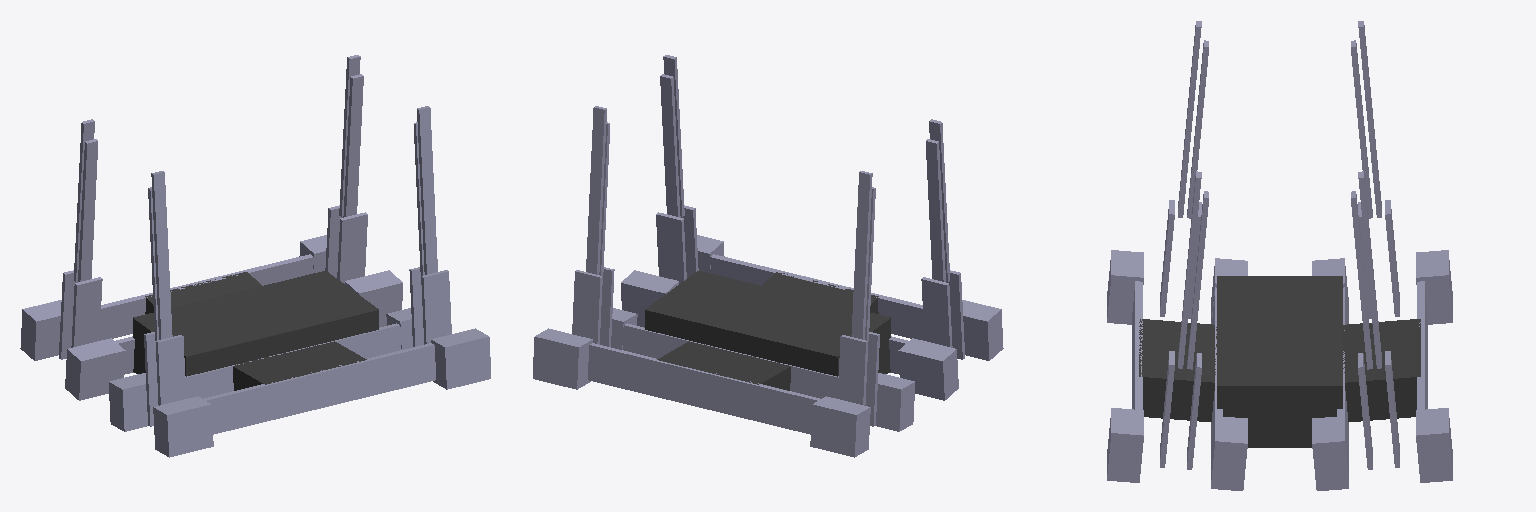
--- Facts derived from the render (not from the file) ---
3 views of the same robot in one strip: view 1: azimuth 30°, elevation 25°; view 2: azimuth 150°, elevation 25°; view 3: azimuth 270°, elevation 25° (orthographic).
Model quadruped with 27 links and 26 joints (16 continuous, 10 fixed), rooted at base_chassis_link, posed all joints at 0.
Visible links, largest first — view 1: chassis_right, base_chassis_link, chassis_left, lower_leg_front_rightR_link, lower_leg_back_rightR_link, lower_leg_front_leftR_link, lower_leg_back_leftR_link, upper_leg_front_rightR_link, upper_leg_back_rightR_link, upper_leg_back_leftR_link, upper_leg_front_leftR_link, upper_leg_back_leftL_link (+7 smaller); view 2: chassis_left, base_chassis_link, chassis_right, lower_leg_front_leftL_link, lower_leg_back_leftL_link, lower_leg_front_rightL_link, lower_leg_back_rightL_link, upper_leg_front_leftL_link, upper_leg_back_leftL_link, upper_leg_back_rightL_link, upper_leg_front_rightL_link, upper_leg_back_rightR_link (+7 smaller); view 3: base_chassis_link, chassis_right, chassis_left, lower_leg_front_rightR_link, lower_leg_front_leftL_link, lower_leg_back_rightR_link, lower_leg_back_leftL_link, lower_leg_front_rightL_link, lower_leg_front_leftR_link, lower_leg_back_rightL_link, lower_leg_back_leftR_link, upper_leg_front_rightL_link (+5 smaller).
Link boxes in pixels (bbox=[...]): chassis_right: bbox=[109, 308, 490, 457]; base_chassis_link: bbox=[133, 271, 378, 376]; chassis_left: bbox=[20, 235, 402, 400]; lower_leg_front_rightR_link: bbox=[417, 106, 437, 274]; lower_leg_back_rightR_link: bbox=[151, 171, 172, 339]; lower_leg_front_leftR_link: bbox=[343, 74, 363, 217]; lower_leg_back_leftR_link: bbox=[78, 139, 97, 281]; upper_leg_front_rightR_link: bbox=[421, 270, 451, 344]; upper_leg_back_rightR_link: bbox=[156, 335, 185, 405]; upper_leg_back_leftR_link: bbox=[71, 277, 102, 347]; upper_leg_front_leftR_link: bbox=[337, 212, 367, 283]; upper_leg_back_leftL_link: bbox=[59, 270, 77, 359]; chassis_left: bbox=[533, 308, 914, 457]; base_chassis_link: bbox=[645, 271, 890, 376]; chassis_right: bbox=[621, 235, 1003, 400]; lower_leg_front_leftL_link: bbox=[586, 106, 606, 274]; lower_leg_back_leftL_link: bbox=[851, 171, 872, 339]; lower_leg_front_rightL_link: bbox=[660, 74, 680, 217]; lower_leg_back_rightL_link: bbox=[926, 139, 945, 281]; upper_leg_front_leftL_link: bbox=[572, 270, 602, 344]; upper_leg_back_leftL_link: bbox=[838, 335, 867, 405]; upper_leg_back_rightL_link: bbox=[921, 277, 952, 347]; upper_leg_front_rightL_link: bbox=[656, 212, 686, 283]; upper_leg_back_rightR_link: bbox=[946, 270, 964, 359]; base_chassis_link: bbox=[1217, 276, 1342, 447]; chassis_right: bbox=[1107, 250, 1247, 490]; chassis_left: bbox=[1312, 250, 1452, 490]; lower_leg_front_rightR_link: bbox=[1178, 171, 1201, 368]; lower_leg_front_leftL_link: bbox=[1358, 171, 1381, 368]; lower_leg_back_rightR_link: bbox=[1178, 21, 1201, 217]; lower_leg_back_leftL_link: bbox=[1358, 21, 1381, 217]; lower_leg_front_rightL_link: bbox=[1187, 191, 1208, 369]; lower_leg_front_leftR_link: bbox=[1351, 191, 1372, 369]; lower_leg_back_rightL_link: bbox=[1187, 40, 1208, 218]; lower_leg_back_leftR_link: bbox=[1351, 40, 1372, 218]; upper_leg_front_rightL_link: bbox=[1187, 353, 1201, 469].
Bounding box of the posed robot: 0.492 × 0.3932 × 0.3771 m (x, y, z).
0 mesh visuals loaded from 1 distinct referenced files (none loaded); not drawn: 8 (reference not matched to a file when rendering).

The robot description file, URDF, robot "quadruped":
<?xml version="1.0" ?>
<!-- ======================================================================= -->
<!--LICENSE:                                                                 -->
<!--Copyright (c) 2017, Erwin Coumans                                        -->
<!--Google Inc.                                                              -->
<!--All rights reserved.                                                     -->
<!--                                                                         -->
<!--Redistribution and use in source and binary forms, with or without       -->
<!--modification, are permitted provided that the following conditions are   -->
<!--met:                                                                     -->
<!--                                                                         -->
<!--1. Redistributions or derived work must retain this copyright notice,    -->
<!--   this list of conditions and the following disclaimer.                 -->
<!--                                                                         -->
<!--2. Redistributions in binary form must reproduce the above copyright     -->
<!--   notice, this list of conditions and the following disclaimer in the   -->
<!--   documentation and/or other materials provided with the distribution.  -->
<!--                                                                         -->
<!--THIS SOFTWARE IS PROVIDED BY THE COPYRIGHT HOLDERS AND CONTRIBUTORS "AS  -->
<!--IS" AND ANY EXPRESS OR IMPLIED WARRANTIES, INCLUDING, BUT NOT LIMITED TO,-->
<!--THE IMPLIED WARRANTIES OF MERCHANTABILITY AND FITNESS FOR A PARTICULAR   -->
<!--PURPOSE ARE DISCLAIMED. IN NO EVENT SHALL THE COPYRIGHT HOLDER OR        -->
<!--CONTRIBUTORS BE LIABLE FOR ANY DIRECT, INDIRECT, INCIDENTAL, SPECIAL,    -->
<!--EXEMPLARY, OR CONSEQUENTIAL DAMAGES (INCLUDING, BUT NOT LIMITED TO,      -->
<!--PROCUREMENT OF SUBSTITUTE GOODS OR SERVICES; LOSS OF USE, DATA, OR       -->
<!--PROFITS; OR BUSINESS INTERRUPTION) HOWEVER CAUSED AND ON ANY THEORY OF   -->
<!--LIABILITY, WHETHER IN CONTRACT, STRICT LIABILITY, OR TORT (INCLUDING     -->
<!--NEGLIGENCE OR OTHERWISE) ARISING IN ANY WAY OUT OF THE USE OF THIS       -->
<!--SOFTWARE, EVEN IF ADVISED OF THE POSSIBILITY OF SUCH DAMAGE.             -->

<robot name="quadruped">
  <link name="base_chassis_link">
    <visual>
      <geometry>
        <box size=".295 0.142 .078"/>
      </geometry>
      <material name="black">
        <color rgba="0.3 0.3 0.3 1"/>
      </material>
    </visual>
    <collision>
      <geometry>
        <box size=".295 0.142 .078"/>
      </geometry>
    </collision>
    <inertial>
      <origin rpy="0.0 0 0" xyz="0.05 0 0"/>
      <mass value="1.81246"/>
      <inertia ixx="0.00474833" ixy="0.0" ixz="0.0" iyy="0.01386899" iyz="0.0" izz="0.01577876"/>
    </inertial>
  </link>

  <link name="chassis_right">
    <visual>
      <origin rpy="0 0 0" xyz="0 0 0"/>
      <geometry>
        <box size=".156 0.091 .050"/>
      </geometry>
      <material name="black">
        <color rgba="0.3 0.3 0.3 1"/>
      </material>
    </visual>
    <visual>
      <origin rpy="0 0 0" xyz="0 0.0455 0"/>
      <geometry>
        <box size=".356 0.009 .050"/>
      </geometry>
      <material name="grey">
        <color rgba="0.65 0.65 0.75 1"/>
      </material>
    </visual>
    <visual>
      <origin rpy="0 0 0" xyz="0 -0.0455 0"/>
      <geometry>
        <box size=".356 0.009 .050"/>
      </geometry>
      <material name="grey">
        <color rgba="0.65 0.65 0.75 1"/>
      </material>
    </visual>
    <visual>
      <origin rpy="0 0 0" xyz="0.212 -0.05915 0"/>
      <geometry>
        <box size=".068 0.0373 .060"/>
      </geometry>
      <material name="grey">
        <color rgba="0.65 0.65 0.75 1"/>
      </material>
    </visual>
    <visual>
      <origin rpy="0 0 0" xyz="0.212 0.05915 0"/>
      <geometry>
        <box size=".068 0.0373 .060"/>
      </geometry>
      <material name="grey">
        <color rgba="0.65 0.65 0.75 1"/>
      </material>
    </visual>
    <visual>
      <origin rpy="0 0 0" xyz="-0.212 -0.05915 0"/>
      <geometry>
        <box size=".068 0.0373 .060"/>
      </geometry>
      <material name="grey">
        <color rgba="0.65 0.65 0.75 1"/>
      </material>
    </visual>
    <visual>
      <origin rpy="0 0 0" xyz="-0.212 0.05915 0"/>
      <geometry>
        <box size=".068 0.0373 .060"/>
      </geometry>
      <material name="grey">
        <color rgba="0.65 0.65 0.75 1"/>
      </material>
    </visual>


    <collision>
      <origin rpy="0 0 0" xyz="0 0.1165 0"/>
      <geometry>
        <box size=".156 0.091 .050"/>
      </geometry>
    </collision>
    <collision>
      <origin rpy="0 0 0" xyz="0 0.0455 0"/>
      <geometry>
        <box size=".356 0.009 .050"/>
      </geometry>
    </collision>
    <collision>
      <origin rpy="0 0 0" xyz="0 -0.0455 0"/>
      <geometry>
        <box size=".356 0.009 .050"/>
      </geometry>
    </collision>
    <collision>
      <origin rpy="0 0 0" xyz="0.212 -0.05915 0"/>
      <geometry>
        <box size=".068 0.0373 .060"/>
      </geometry>
    </collision>
    <collision>
      <origin rpy="0 0 0" xyz="0.212 0.05915 0"/>
      <geometry>
        <box size=".068 0.0373 .060"/>
      </geometry>
    </collision>
    <collision>
      <origin rpy="0 0 0" xyz="-0.212 -0.05915 0"/>
      <geometry>
        <box size=".068 0.0373 .060"/>
      </geometry>
    </collision>
    <collision>
      <origin rpy="0 0 0" xyz="-0.212 0.05915 0"/>
      <geometry>
        <box size=".068 0.0373 .060"/>
      </geometry>
    </collision>

    <inertial>
      <mass value="1.3668"/>
      <inertia ixx="0.0038077" ixy="0.0" ixz="0.0" iyy="0.0328502" iyz="0.0" izz="0.03575585"/>
    </inertial>
  </link>

  <joint name="chassis_right_center" type="fixed">
    <axis xyz="0 0 1"/>
    <parent link="base_chassis_link"/>
    <child link="chassis_right"/>
    <origin rpy="-0.0872665 0 0" xyz="0.0 -0.1165 -0.011"/>
    <limit effort="100" velocity="100"/>
    <joint_properties damping="0.0" friction="0.0"/>
  </joint>

  <link name="chassis_left">
    <visual>
      <origin rpy="0 0 0" xyz="0 0 0"/>
      <geometry>
        <box size=".156 0.091 .050"/>
      </geometry>
      <material name="black">
        <color rgba="0.3 0.3 0.3 1"/>
      </material>
    </visual>
    <visual>
      <origin rpy="0 0 0" xyz="0 0.0455 0"/>
      <geometry>
        <box size=".356 0.009 .050"/>
      </geometry>
      <material name="grey">
        <color rgba="0.65 0.65 0.75 1"/>
      </material>
    </visual>
    <visual>
      <origin rpy="0 0 0" xyz="0 -0.0455 0"/>
      <geometry>
        <box size=".356 0.009 .050"/>
      </geometry>
      <material name="grey">
        <color rgba="0.65 0.65 0.75 1"/>
      </material>
    </visual>
    <visual>
      <origin rpy="0 0 0" xyz="0.212 -0.05915 0"/>
      <geometry>
        <box size=".068 0.0373 .060"/>
      </geometry>
      <material name="grey">
        <color rgba="0.65 0.65 0.75 1"/>
      </material>
    </visual>
    <visual>
      <origin rpy="0 0 0" xyz="0.212 0.05915 0"/>
      <geometry>
        <box size=".068 0.0373 .060"/>
      </geometry>
      <material name="grey">
        <color rgba="0.65 0.65 0.75 1"/>
      </material>
    </visual>
    <visual>
      <origin rpy="0 0 0" xyz="-0.212 -0.05915 0"/>
      <geometry>
        <box size=".068 0.0373 .060"/>
      </geometry>
      <material name="grey">
        <color rgba="0.65 0.65 0.75 1"/>
      </material>
    </visual>
    <visual>
      <origin rpy="0 0 0" xyz="-0.212 0.05915 0"/>
      <geometry>
        <box size=".068 0.0373 .060"/>
      </geometry>
      <material name="grey">
        <color rgba="0.65 0.65 0.75 1"/>
      </material>
    </visual>


    <collision>
      <origin rpy="0 0 0" xyz="0 0.1165 0"/>
      <geometry>
        <box size=".156 0.091 .050"/>
      </geometry>
    </collision>
    <collision>
      <origin rpy="0 0 0" xyz="0 0.0455 0"/>
      <geometry>
        <box size=".356 0.009 .050"/>
      </geometry>
    </collision>
    <collision>
      <origin rpy="0 0 0" xyz="0 -0.0455 0"/>
      <geometry>
        <box size=".356 0.009 .050"/>
      </geometry>
    </collision>
    <collision>
      <origin rpy="0 0 0" xyz="0.212 -0.05915 0"/>
      <geometry>
        <box size=".068 0.0373 .060"/>
      </geometry>
    </collision>
    <collision>
      <origin rpy="0 0 0" xyz="0.212 0.05915 0"/>
      <geometry>
        <box size=".068 0.0373 .060"/>
      </geometry>
    </collision>
    <collision>
      <origin rpy="0 0 0" xyz="-0.212 -0.05915 0"/>
      <geometry>
        <box size=".068 0.0373 .060"/>
      </geometry>
    </collision>
    <collision>
      <origin rpy="0 0 0" xyz="-0.212 0.05915 0"/>
      <geometry>
        <box size=".068 0.0373 .060"/>
      </geometry>
    </collision>

    <inertial>
      <mass value="1.3668"/>
      <inertia ixx="0.0038077" ixy="0.0" ixz="0.0" iyy="0.0328502" iyz="0.0" izz="0.03575585"/>
    </inertial>
  </link>

  <joint name="chassis_left_center" type="fixed">
    <axis xyz="0 0 1"/>
    <parent link="base_chassis_link"/>
    <child link="chassis_left"/>
    <origin rpy="0.0872665 0 0" xyz="0.0 0.1165 -0.011"/>
    <limit effort="100" velocity="100"/>
    <joint_properties damping="0.0" friction="0.0"/>
  </joint>

  <link name="motor_front_rightR_link">
    <visual>
      <geometry>
        <mesh filename="tmotor3.obj" scale="1 1 1"/>
      </geometry>
      <material name="white">
        <color rgba="1 1 1 1"/>
      </material>
    </visual>
    <collision>
      <geometry>
        <cylinder length="0.0165" radius="0.0425"/>
      </geometry>
    </collision>
    <inertial>
      <mass value="0.241"/>
      <inertia ixx="0.00011397" ixy="0.0" ixz="0.0" iyy="0.00011397" iyz="0.0" izz="0.00021765"/>
    </inertial>
  </link>
  <joint name="motor_front_rightR_joint" type="continuous">
    <axis xyz="0 0 1"/>
    <parent link="chassis_right"/>
    <child link="motor_front_rightR_link"/>
    <origin rpy="1.57075 0 0" xyz="0.20268 -0.03275 0"/>
    <limit effort="100" velocity="100"/>
    <joint_properties damping="0.0" friction="0.0"/>
  </joint>

  <link name="motor_front_rightL_link">
    <visual>
      <geometry>
        <mesh filename="tmotor3.obj" scale="1 1 1"/>
      </geometry>
      <material name="white">
        <color rgba="1 1 1 1"/>
      </material>
    </visual>
    <collision>
      <geometry>
        <cylinder length="0.0165" radius="0.0425"/>
      </geometry>
    </collision>
    <inertial>
      <mass value="0.241"/>
      <inertia ixx="0.00011397" ixy="0.0" ixz="0.0" iyy="0.00011397" iyz="0.0" izz="0.00021765"/>
    </inertial>
  </link>
  <joint name="motor_front_rightL_joint" type="continuous">
    <axis xyz="0 0 1"/>
    <parent link="chassis_right"/>
    <child link="motor_front_rightL_link"/>
    <origin rpy="1.57075 0 3.141592" xyz="0.20268 0.03275 0"/>
    <limit effort="100" velocity="100"/>
    <joint_properties damping="0.0" friction="0.0"/>
  </joint>

  <link name="motor_front_leftL_link">
    <visual>
      <geometry>
        <mesh filename="tmotor3.obj" scale="1 1 1"/>
      </geometry>
      <material name="white">
        <color rgba="1 1 1 1"/>
      </material>
    </visual>
    <collision>
      <geometry>
        <cylinder length="0.0165" radius="0.0425"/>
      </geometry>
    </collision>
    <inertial>
      <mass value="0.241"/>
      <inertia ixx="0.00011397" ixy="0.0" ixz="0.0" iyy="0.00011397" iyz="0.0" izz="0.00021765"/>
    </inertial>
  </link>
  <joint name="motor_front_leftL_joint" type="continuous">
    <axis xyz="0 0 1"/>
    <parent link="chassis_left"/>
    <child link="motor_front_leftL_link"/>
    <origin rpy="1.57075 0 3.141592" xyz="0.20268 0.03275 0"/>
    <limit effort="100" velocity="100"/>
    <joint_properties damping="0.0" friction="0.0"/>
  </joint>

  <link name="motor_front_leftR_link">
    <visual>
      <geometry>
        <mesh filename="tmotor3.obj" scale="1 1 1"/>
      </geometry>
      <material name="white">
        <color rgba="1 1 1 1"/>
      </material>
    </visual>
    <collision>
      <geometry>
        <cylinder length="0.0165" radius="0.0425"/>
      </geometry>
    </collision>
    <inertial>
      <mass value="0.241"/>
      <inertia ixx="0.00011397" ixy="0.0" ixz="0.0" iyy="0.00011397" iyz="0.0" izz="0.00021765"/>
    </inertial>
  </link>
  <joint name="motor_front_leftR_joint" type="continuous">
    <axis xyz="0 0 1"/>
    <parent link="chassis_left"/>
    <child link="motor_front_leftR_link"/>
    <origin rpy="1.57075 0 0" xyz="0.20268 -0.03275 0"/>
    <limit effort="100" velocity="100"/>
    <joint_properties damping="0.0" friction="0.0"/>
  </joint>

  <link name="motor_back_rightR_link">
    <visual>
      <geometry>
        <mesh filename="tmotor3.obj" scale="1 1 1"/>
      </geometry>
      <material name="white">
        <color rgba="1 1 1 1"/>
      </material>
    </visual>
    <collision>
      <geometry>
        <cylinder length="0.0165" radius="0.0425"/>
      </geometry>
    </collision>
    <inertial>
      <mass value="0.241"/>
      <inertia ixx="0.00011397" ixy="0.0" ixz="0.0" iyy="0.00011397" iyz="0.0" izz="0.00021765"/>
    </inertial>
  </link>
  <joint name="motor_back_rightR_joint" type="continuous">
    <axis xyz="0 0 1"/>
    <parent link="chassis_right"/>
    <child link="motor_back_rightR_link"/>
    <origin rpy="1.57075 0 0" xyz="-0.20268 -0.03275 0"/>
    <limit effort="100" velocity="100"/>
    <joint_properties damping="0.0" friction="0.0"/>
  </joint>

  <link name="motor_back_rightL_link">
    <visual>
      <geometry>
        <mesh filename="tmotor3.obj" scale="1 1 1"/>
      </geometry>
      <material name="white">
        <color rgba="1 1 1 1"/>
      </material>
    </visual>
    <collision>
      <geometry>
        <cylinder length="0.0165" radius="0.0425"/>
      </geometry>
    </collision>
    <inertial>
      <mass value="0.241"/>
      <inertia ixx="0.00011397" ixy="0.0" ixz="0.0" iyy="0.00011397" iyz="0.0" izz="0.00021765"/>
    </inertial>
  </link>
  <joint name="motor_back_rightL_joint" type="continuous">
    <axis xyz="0 0 1"/>
    <parent link="chassis_right"/>
    <child link="motor_back_rightL_link"/>
    <origin rpy="1.57075 0 3.141592" xyz="-0.20268 0.03275 0"/>
    <limit effort="100" velocity="100"/>
    <joint_properties damping="0.0" friction="0.0"/>
  </joint>

  <link name="motor_back_leftL_link">
    <visual>
      <geometry>
        <mesh filename="tmotor3.obj" scale="1 1 1"/>
      </geometry>
      <material name="white">
        <color rgba="1 1 1 1"/>
      </material>
    </visual>
    <collision>
      <geometry>
        <cylinder length="0.0165" radius="0.0425"/>
      </geometry>
    </collision>
    <inertial>
      <mass value="0.241"/>
      <inertia ixx="0.00011397" ixy="0.0" ixz="0.0" iyy="0.00011397" iyz="0.0" izz="0.00021765"/>
    </inertial>
  </link>
  <joint name="motor_back_leftL_joint" type="continuous">
    <axis xyz="0 0 1"/>
    <parent link="chassis_left"/>
    <child link="motor_back_leftL_link"/>
    <origin rpy="1.57075 0 3.141592" xyz="-0.20268 0.03275 0"/>
    <limit effort="100" velocity="100"/>
    <joint_properties damping="0.0" friction="0.0"/>
  </joint>

  <link name="motor_back_leftR_link">
    <visual>
      <geometry>
        <mesh filename="tmotor3.obj" scale="1 1 1"/>
      </geometry>
      <material name="white">
        <color rgba="1 1 1 1"/>
      </material>
    </visual>
    <collision>
      <geometry>
        <cylinder length="0.0165" radius="0.0425"/>
      </geometry>
    </collision>
    <inertial>
      <mass value="0.241"/>
      <inertia ixx="0.00011397" ixy="0.0" ixz="0.0" iyy="0.00011397" iyz="0.0" izz="0.00021765"/>
    </inertial>
  </link>
  <joint name="motor_back_leftR_joint" type="continuous">
    <axis xyz="0 0 1"/>
    <parent link="chassis_left"/>
    <child link="motor_back_leftR_link"/>
    <origin rpy="1.57075 0 0" xyz="-0.20268 -0.03275 0"/>
    <limit effort="100" velocity="100"/>
    <joint_properties damping="0.0" friction="0.0"/>
  </joint>


  <link name="upper_leg_front_rightR_link">
    <visual>
      <geometry>
        <box size=".039 0.0064 .129"/>
      </geometry>
      <material name="grey">
        <color rgba="0.65 0.65 0.75 1"/>
      </material>
    </visual>
    <collision>
      <geometry>
        <box size=".039 0.0064 .129"/>
      </geometry>
    </collision>
    <inertial>
      <mass value="0.026"/>
      <inertia ixx="0.000038770" ixy="0.0" ixz="0.0" iyy="0.000042198" iyz="0.0"
          izz="0.0000036030"/>
    </inertial>
  </link>
  <joint name="hip_front_rightR_joint" type="fixed">
    <axis xyz="0 0 1"/>
    <parent link="motor_front_rightR_link"/>
    <child link="upper_leg_front_rightR_link"/>
    <origin rpy="-1.57075 0 0" xyz="0.0 0.045 -0.01725"/>
    <limit effort="100" velocity="100"/>
    <joint_properties damping="0.0" friction="0.0"/>
  </joint>

  <link name="lower_leg_front_rightR_link">
    <contact>
      <friction_anchor/>
      <stiffness value="30000.0"/>
      <damping value="1000.0"/>
      <spinning_friction value=".3"/>
      <lateral_friction value="1"/>
    </contact>

    <visual>
      <origin rpy="0.0 0 0" xyz="0 0 0.120"/>
      <geometry>
        <box size="0.017 0.0064 0.240"/>
      </geometry>
      <material name="grey">
        <color rgba="0.65 0.65 0.75 1"/>
      </material>
    </visual>
    <collision>
      <origin rpy="0.0 0 0" xyz="0 0 0.120"/>
      <geometry>
        <box size="0.017 0.0064 0.240"/>
      </geometry>
    </collision>
    <inertial>
      <origin rpy="0.0 0 0" xyz="0 0 0.120"/>
      <mass value="0.066"/>
      <inertia ixx="0.00032459" ixy="0.0" ixz="0.0" iyy="0.00032637" iyz="0.0" izz="0.000002178"/>
    </inertial>
  </link>
  <joint name="knee_front_rightR_joint" type="continuous">
    <axis xyz="0 1 0"/>
    <parent link="upper_leg_front_rightR_link"/>
    <child link="lower_leg_front_rightR_link"/>
    <origin rpy="0 0 0" xyz="0.0 0.01 .056"/>
    <limit effort="100" velocity="100"/>
    <joint_properties damping="0.0" friction="0.0"/>
  </joint>

  <link name="upper_leg_front_rightL_link">
    <visual>
      <geometry>
        <box size=".039 0.0064 .129"/>
      </geometry>
      <material name="grey">
        <color rgba="0.65 0.65 0.75 1"/>
      </material>
    </visual>
    <collision>
      <geometry>
        <box size=".039 0.0064 .129"/>
      </geometry>
    </collision>
    <inertial>
      <mass value="0.026"/>
      <inertia ixx="0.000038770" ixy="0.0" ixz="0.0" iyy="0.000042198" iyz="0.0"
          izz="0.0000036030"/>
    </inertial>
  </link>
  <joint name="hip_front_rightL_joint" type="fixed">
    <axis xyz="0 0 1"/>
    <parent link="motor_front_rightL_link"/>
    <child link="upper_leg_front_rightL_link"/>
    <origin rpy="-1.57075 0 0" xyz="0.0 0.045 -0.01725"/>
    <limit effort="100" velocity="100"/>
    <joint_properties damping="0.0" friction="0.0"/>
  </joint>

  <link name="lower_leg_front_rightL_link">
    <contact>
      <friction_anchor/>
      <stiffness value="30000.0"/>
      <damping value="1000.0"/>
      <spinning_friction value=".3"/>
      <lateral_friction value="1"/>
    </contact>

    <visual>
      <origin rpy="0.0 0 0" xyz="0 0 .108"/>
      <geometry>
        <box size="0.017 0.0064 0.216"/>
      </geometry>
      <material name="grey">
        <color rgba="0.65 0.65 0.75 1"/>
      </material>
    </visual>
    <collision>
      <origin rpy="0.0 0 0" xyz="0 0 .108"/>
      <geometry>
        <box size="0.017 0.0064 0.216"/>
      </geometry>
    </collision>
    <inertial>
      <origin rpy="0.0 0 0" xyz="0 0 .1"/>
      <mass value="0.055"/>
      <inertia ixx="0.00023166" ixy="0.0" ixz="0.0" iyy="0.00023325" iyz="0.0" izz="0.00000198"/>
    </inertial>
  </link>
  <joint name="knee_front_rightL_joint" type="continuous">
    <axis xyz="0 1 0"/>
    <parent link="upper_leg_front_rightL_link"/>
    <child link="lower_leg_front_rightL_link"/>
    <origin rpy="0 0 0" xyz="0.0 0.01 .056"/>
    <limit effort="100" velocity="100"/>
    <joint_properties damping="0.0" friction="0.0"/>
  </joint>


  <link name="upper_leg_front_leftR_link">
    <visual>
      <geometry>
        <box size=".039 0.0064 .129"/>
      </geometry>
      <material name="grey">
        <color rgba="0.65 0.65 0.75 1"/>
      </material>
    </visual>
    <collision>
      <geometry>
        <box size=".039 0.0064 .129"/>
      </geometry>
    </collision>
    <inertial>
      <mass value="0.026"/>
      <inertia ixx="0.000038770" ixy="0.0" ixz="0.0" iyy="0.000042198" iyz="0.0"
          izz="0.0000036030"/>
    </inertial>
  </link>
  <joint name="hip_front_leftR_joint" type="fixed">
    <axis xyz="0 0 1"/>
    <parent link="motor_front_leftR_link"/>
    <child link="upper_leg_front_leftR_link"/>
    <origin rpy="-1.57075 0 0" xyz="0.0 0.045 -0.01725"/>
    <limit effort="100" velocity="100"/>
    <joint_properties damping="0.0" friction="0.0"/>
  </joint>

  <link name="lower_leg_front_leftR_link">
    <contact>
      <friction_anchor/>
      <stiffness value="30000.0"/>
      <damping value="1000.0"/>
      <spinning_friction value=".3"/>
      <lateral_friction value="1"/>
    </contact>

    <visual>
      <origin rpy="0.0 0 0" xyz="0 0 .108"/>
      <geometry>
        <box size="0.017 0.0064 0.216"/>
      </geometry>
      <material name="grey">
        <color rgba="0.65 0.65 0.75 1"/>
      </material>
    </visual>
    <collision>
      <origin rpy="0.0 0 0" xyz="0 0 .108"/>
      <geometry>
        <box size="0.017 0.0064 0.216"/>
      </geometry>
    </collision>
    <inertial>
      <origin rpy="0.0 0 0" xyz="0 0 .1"/>
      <mass value="0.055"/>
      <inertia ixx="0.00023166" ixy="0.0" ixz="0.0" iyy="0.00023325" iyz="0.0" izz="0.00000198"/>
    </inertial>
  </link>
  <joint name="knee_front_leftR_joint" type="continuous">
    <axis xyz="0 1 0"/>
    <parent link="upper_leg_front_leftR_link"/>
    <child link="lower_leg_front_leftR_link"/>
    <origin rpy="0 0 0" xyz="0.0 0.01 .056"/>
    <limit effort="100" velocity="100"/>
    <joint_properties damping="0.0" friction="0.0"/>
  </joint>

  <link name="upper_leg_front_leftL_link">
    <visual>
      <geometry>
        <box size=".039 0.0064 .129"/>
      </geometry>
      <material name="grey">
        <color rgba="0.65 0.65 0.75 1"/>
      </material>
    </visual>
    <collision>
      <geometry>
        <box size=".039 0.0064 .129"/>
      </geometry>
    </collision>
    <inertial>
      <mass value="0.026"/>
      <inertia ixx="0.000038770" ixy="0.0" ixz="0.0" iyy="0.000042198" iyz="0.0"
          izz="0.0000036030"/>
    </inertial>
  </link>
  <joint name="hip_front_leftL_joint" type="fixed">
    <axis xyz="0 0 1"/>
    <parent link="motor_front_leftL_link"/>
    <child link="upper_leg_front_leftL_link"/>
    <origin rpy="-1.57075 0 0" xyz="0.0 0.045 -0.01725"/>
    <limit effort="100" velocity="100"/>
    <joint_properties damping="0.0" friction="0.0"/>
  </joint>

  <link name="lower_leg_front_leftL_link">
    <contact>
      <friction_anchor/>
      <stiffness value="30000.0"/>
      <damping value="1000.0"/>
      <spinning_friction value=".3"/>
      <lateral_friction value="1"/>
    </contact>

    <visual>
      <origin rpy="0.0 0 0" xyz="0 0 0.120"/>
      <geometry>
        <box size="0.017 0.0064 0.240"/>
      </geometry>
      <material name="grey">
        <color rgba="0.65 0.65 0.75 1"/>
      </material>
    </visual>
    <collision>
      <origin rpy="0.0 0 0" xyz="0 0 0.120"/>
      <geometry>
        <box size="0.017 0.0064 0.240"/>
      </geometry>
    </collision>
    <inertial>
      <origin rpy="0.0 0 0" xyz="0 0 0.120"/>
      <mass value="0.066"/>
      <inertia ixx="0.00032459" ixy="0.0" ixz="0.0" iyy="0.00032637" iyz="0.0" izz="0.000002178"/>
    </inertial>
  </link>
  <joint name="knee_front_leftL_joint" type="continuous">
    <axis xyz="0 1 0"/>
    <parent link="upper_leg_front_leftL_link"/>
    <child link="lower_leg_front_leftL_link"/>
    <origin rpy="0 0 0" xyz="0.0 0.01 .056"/>
    <limit effort="100" velocity="100"/>
    <joint_properties damping="0.0" friction="0.0"/>
  </joint>


  <link name="upper_leg_back_rightR_link">
    <visual>
      <geometry>
        <box size=".039 0.0064 .129"/>
      </geometry>
      <material name="grey">
        <color rgba="0.65 0.65 0.75 1"/>
      </material>
    </visual>
    <collision>
      <geometry>
        <box size=".039 0.0064 .129"/>
      </geometry>
    </collision>
    <inertial>
      <mass value="0.026"/>
      <inertia ixx="0.000038770" ixy="0.0" ixz="0.0" iyy="0.000042198" iyz="0.0"
          izz="0.0000036030"/>
    </inertial>
  </link>
  <joint name="hip_back_rightR_joint" type="fixed">
    <axis xyz="0 0 1"/>
    <parent link="motor_back_rightR_link"/>
    <child link="upper_leg_back_rightR_link"/>
    <origin rpy="-1.57075 0 0" xyz="0.0 0.045 -0.01725"/>
    <limit effort="100" velocity="100"/>
    <joint_properties damping="0.0" friction="0.0"/>
  </joint>

  <link name="lower_leg_back_rightR_link">
    <contact>
      <friction_anchor/>
      <stiffness value="30000.0"/>
      <damping value="1000.0"/>
      <spinning_friction value=".3"/>
      <lateral_friction value="1"/>
    </contact>

    <visual>
      <origin rpy="0.0 0 0" xyz="0 0 0.120"/>
      <geometry>
        <box size="0.017 0.0064 0.240"/>
      </geometry>
      <material name="grey">
        <color rgba="0.65 0.65 0.75 1"/>
      </material>
    </visual>
    <collision>
      <origin rpy="0.0 0 0" xyz="0 0 0.120"/>
      <geometry>
        <box size="0.017 0.0064 0.240"/>
      </geometry>
    </collision>
    <inertial>
      <origin rpy="0.0 0 0" xyz="0 0 0.120"/>
      <mass value="0.066"/>
      <inertia ixx="0.00032459" ixy="0.0" ixz="0.0" iyy="0.00032637" iyz="0.0" izz="0.000002178"/>
    </inertial>
  </link>
  <joint name="knee_back_rightR_joint" type="continuous">
    <axis xyz="0 1 0"/>
    <parent link="upper_leg_back_rightR_link"/>
    <child link="lower_leg_back_rightR_link"/>
    <origin rpy="0 0 0" xyz="0.0 0.01 .056"/>
    <limit effort="100" velocity="100"/>
    <joint_properties damping="0.0" friction="0.0"/>
  </joint>

  <link name="upper_leg_back_rightL_link">
    <visual>
      <geometry>
        <box size=".039 0.0064 .129"/>
      </geometry>
      <material name="grey">
        <color rgba="0.65 0.65 0.75 1"/>
      </material>
    </visual>
    <collision>
      <geometry>
        <box size=".039 0.0064 .129"/>
      </geometry>
    </collision>
    <inertial>
      <mass value="0.026"/>
      <inertia ixx="0.000038770" ixy="0.0" ixz="0.0" iyy="0.000042198" iyz="0.0"
          izz="0.0000036030"/>
    </inertial>
  </link>
  <joint name="hip_back_rightL_joint" type="fixed">
    <axis xyz="0 0 1"/>
    <parent link="motor_back_rightL_link"/>
    <child link="upper_leg_back_rightL_link"/>
    <origin rpy="-1.57075 0 0" xyz="0.0 0.045 -0.01725"/>
    <limit effort="100" velocity="100"/>
    <joint_properties damping="0.0" friction="0.0"/>
  </joint>

  <link name="lower_leg_back_rightL_link">
    <contact>
      <friction_anchor/>
      <stiffness value="30000.0"/>
      <damping value="1000.0"/>
      <spinning_friction value=".3"/>
      <lateral_friction value="1"/>
    </contact>

    <visual>
      <origin rpy="0.0 0 0" xyz="0 0 .108"/>
      <geometry>
        <box size="0.017 0.0064 0.216"/>
      </geometry>
      <material name="grey">
        <color rgba="0.65 0.65 0.75 1"/>
      </material>
    </visual>
    <collision>
      <origin rpy="0.0 0 0" xyz="0 0 .108"/>
      <geometry>
        <box size="0.017 0.0064 0.216"/>
      </geometry>
    </collision>
    <inertial>
      <origin rpy="0.0 0 0" xyz="0 0 .1"/>
      <mass value="0.055"/>
      <inertia ixx="0.00023166" ixy="0.0" ixz="0.0" iyy="0.00023325" iyz="0.0" izz="0.00000198"/>
    </inertial>
  </link>
  <joint name="knee_back_rightL_joint" type="continuous">
    <axis xyz="0 1 0"/>
    <parent link="upper_leg_back_rightL_link"/>
    <child link="lower_leg_back_rightL_link"/>
    <origin rpy="0 0 0" xyz="0.0 0.01 .056"/>
    <limit effort="100" velocity="100"/>
    <joint_properties damping="0.0" friction="0.0"/>
  </joint>


  <link name="upper_leg_back_leftR_link">
    <visual>
      <geometry>
        <box size=".039 0.0064 .129"/>
      </geometry>
      <material name="grey">
        <color rgba="0.65 0.65 0.75 1"/>
      </material>
    </visual>
    <collision>
      <geometry>
        <box size=".039 0.0064 .129"/>
      </geometry>
    </collision>
    <inertial>
      <mass value="0.026"/>
      <inertia ixx="0.000038770" ixy="0.0" ixz="0.0" iyy="0.000042198" iyz="0.0"
          izz="0.0000036030"/>
    </inertial>
  </link>
  <joint name="hip_back_leftR_joint" type="fixed">
    <axis xyz="0 0 1"/>
    <parent link="motor_back_leftR_link"/>
    <child link="upper_leg_back_leftR_link"/>
    <origin rpy="-1.57075 0 0" xyz="0.0 0.045 -0.01725"/>
    <limit effort="100" velocity="100"/>
    <joint_properties damping="0.0" friction="0.0"/>
  </joint>

  <link name="lower_leg_back_leftR_link">
    <contact>
      <friction_anchor/>
      <stiffness value="30000.0"/>
      <damping value="1000.0"/>
      <spinning_friction value=".3"/>
      <lateral_friction value="1"/>
    </contact>

    <visual>
      <origin rpy="0.0 0 0" xyz="0 0 .108"/>
      <geometry>
        <box size="0.017 0.0064 0.216"/>
      </geometry>
      <material name="grey">
        <color rgba="0.65 0.65 0.75 1"/>
      </material>
    </visual>
    <collision>
      <origin rpy="0.0 0 0" xyz="0 0 .108"/>
      <geometry>
        <box size="0.017 0.0064 0.216"/>
      </geometry>
    </collision>
    <inertial>
      <origin rpy="0.0 0 0" xyz="0 0 .1"/>
      <mass value="0.055"/>
      <inertia ixx="0.00023166" ixy="0.0" ixz="0.0" iyy="0.00023325" iyz="0.0" izz="0.00000198"/>
    </inertial>
  </link>
  <joint name="knee_back_leftR_joint" type="continuous">
    <axis xyz="0 1 0"/>
    <parent link="upper_leg_back_leftR_link"/>
    <child link="lower_leg_back_leftR_link"/>
    <origin rpy="0 0 0" xyz="0.0 0.01 .056"/>
    <limit effort="100" velocity="100"/>
    <joint_properties damping="0.0" friction="0.0"/>
  </joint>

  <link name="upper_leg_back_leftL_link">
    <visual>
      <geometry>
        <box size=".039 0.0064 .129"/>
      </geometry>
      <material name="grey">
        <color rgba="0.65 0.65 0.75 1"/>
      </material>
    </visual>
    <collision>
      <geometry>
        <box size=".039 0.0064 .129"/>
      </geometry>
    </collision>
    <inertial>
      <mass value="0.026"/>
      <inertia ixx="0.000038770" ixy="0.0" ixz="0.0" iyy="0.000042198" iyz="0.0"
          izz="0.0000036030"/>
    </inertial>
  </link>
  <joint name="hip_back_leftL_joint" type="fixed">
    <axis xyz="0 0 1"/>
    <parent link="motor_back_leftL_link"/>
    <child link="upper_leg_back_leftL_link"/>
    <origin rpy="-1.57075 0 0" xyz="0.0 0.045 -0.01725"/>
    <limit effort="100" velocity="100"/>
    <joint_properties damping="0.0" friction="0.0"/>
  </joint>

  <link name="lower_leg_back_leftL_link">
    <contact>
      <friction_anchor/>
      <stiffness value="30000.0"/>
      <damping value="1000.0"/>
      <spinning_friction value=".3"/>
      <lateral_friction value="1"/>
    </contact>

    <visual>
      <origin rpy="0.0 0 0" xyz="0 0 0.120"/>
      <geometry>
        <box size="0.017 0.0064 0.240"/>
      </geometry>
      <material name="grey">
        <color rgba="0.65 0.65 0.75 1"/>
      </material>
    </visual>
    <collision>
      <origin rpy="0.0 0 0" xyz="0 0 0.120"/>
      <geometry>
        <box size="0.017 0.0064 0.240"/>
      </geometry>
    </collision>
    <inertial>
      <origin rpy="0.0 0 0" xyz="0 0 0.120"/>
      <mass value="0.066"/>
      <inertia ixx="0.00032459" ixy="0.0" ixz="0.0" iyy="0.00032637" iyz="0.0" izz="0.000002178"/>
    </inertial>
  </link>
  <joint name="knee_back_leftL_joint" type="continuous">
    <axis xyz="0 1 0"/>
    <parent link="upper_leg_back_leftL_link"/>
    <child link="lower_leg_back_leftL_link"/>
    <origin rpy="0 0 0" xyz="0.0 0.01 .056"/>
    <limit effort="100" velocity="100"/>
    <joint_properties damping="0.0" friction="0.0"/>
  </joint>

</robot>
